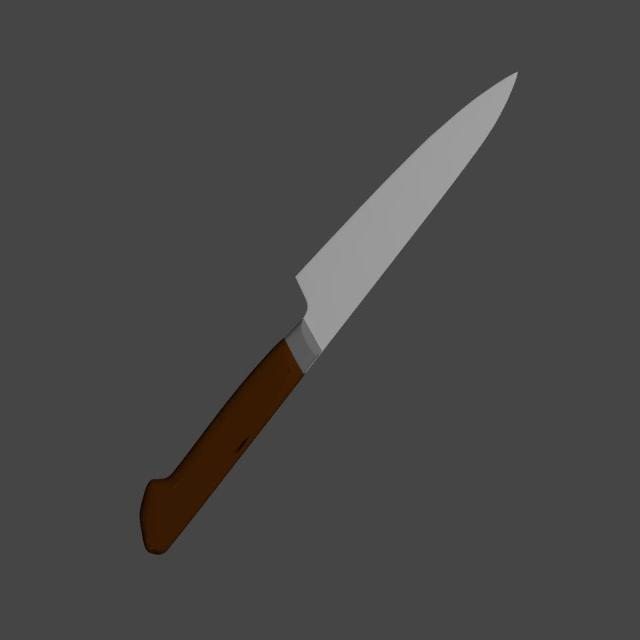knife: (139, 337, 306, 555)
